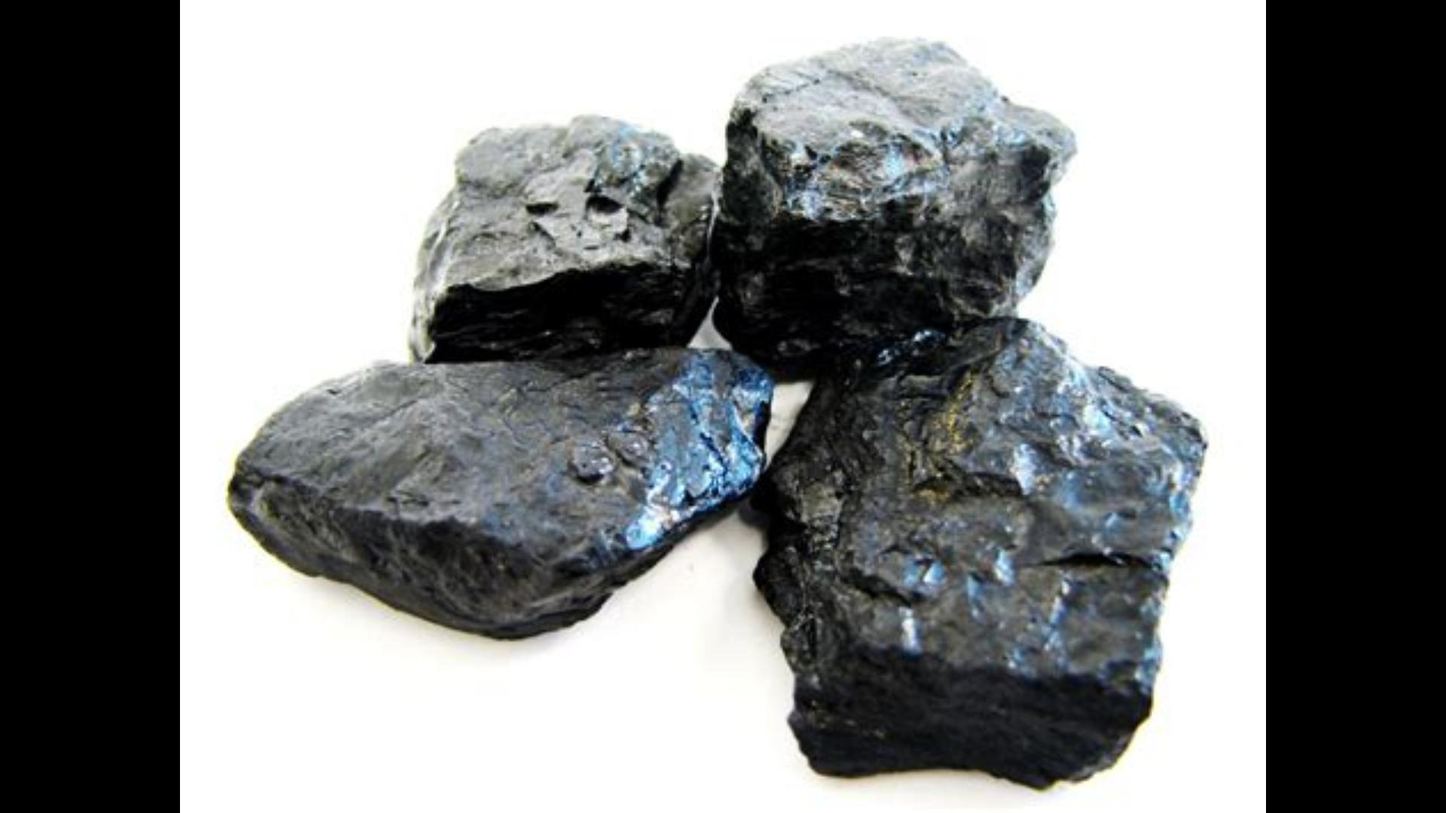rock: (755, 318, 1204, 786), (230, 348, 771, 630), (712, 39, 1074, 369), (409, 117, 714, 360)
